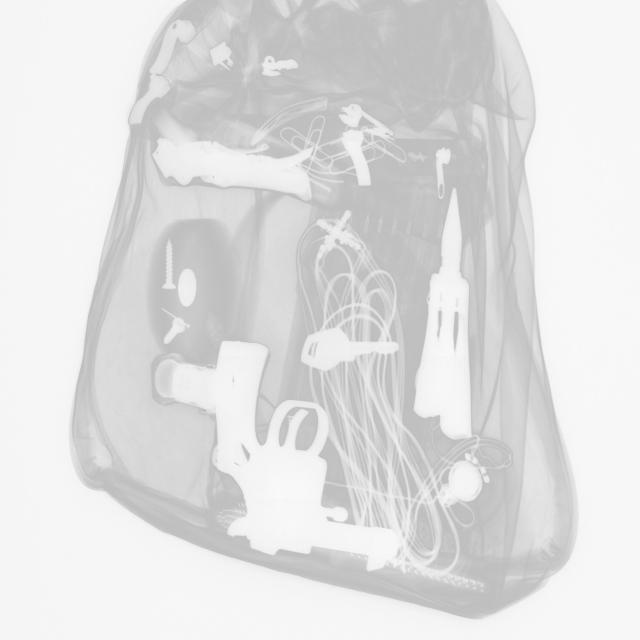pistol: (209, 333, 401, 575)
